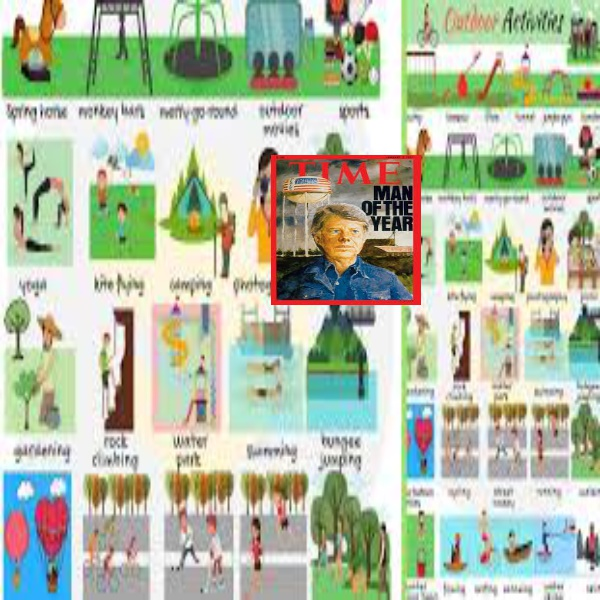time_cover: (269, 147, 426, 306)
